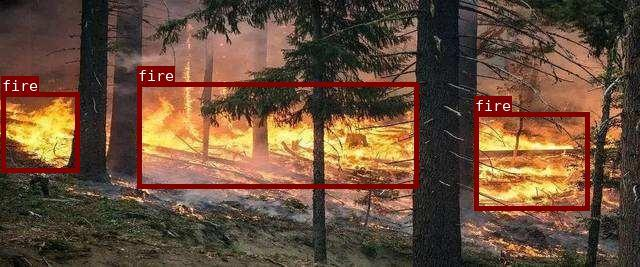fire: (136, 82, 418, 188), (473, 111, 588, 209), (0, 92, 78, 172)
